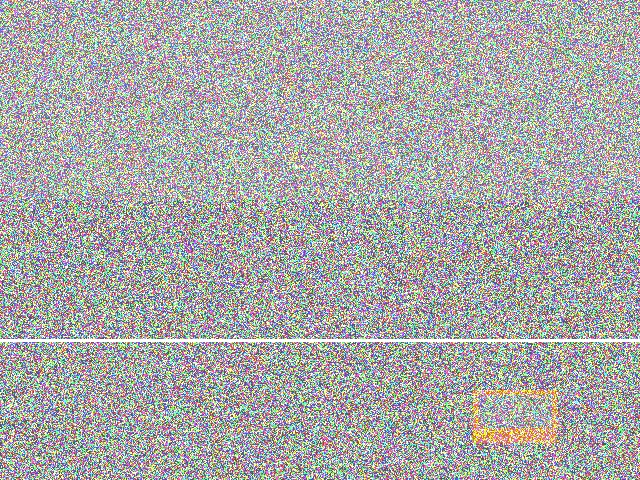bus: (254, 353, 408, 453), (123, 348, 209, 403)
motorcycle: (253, 253, 361, 355)
